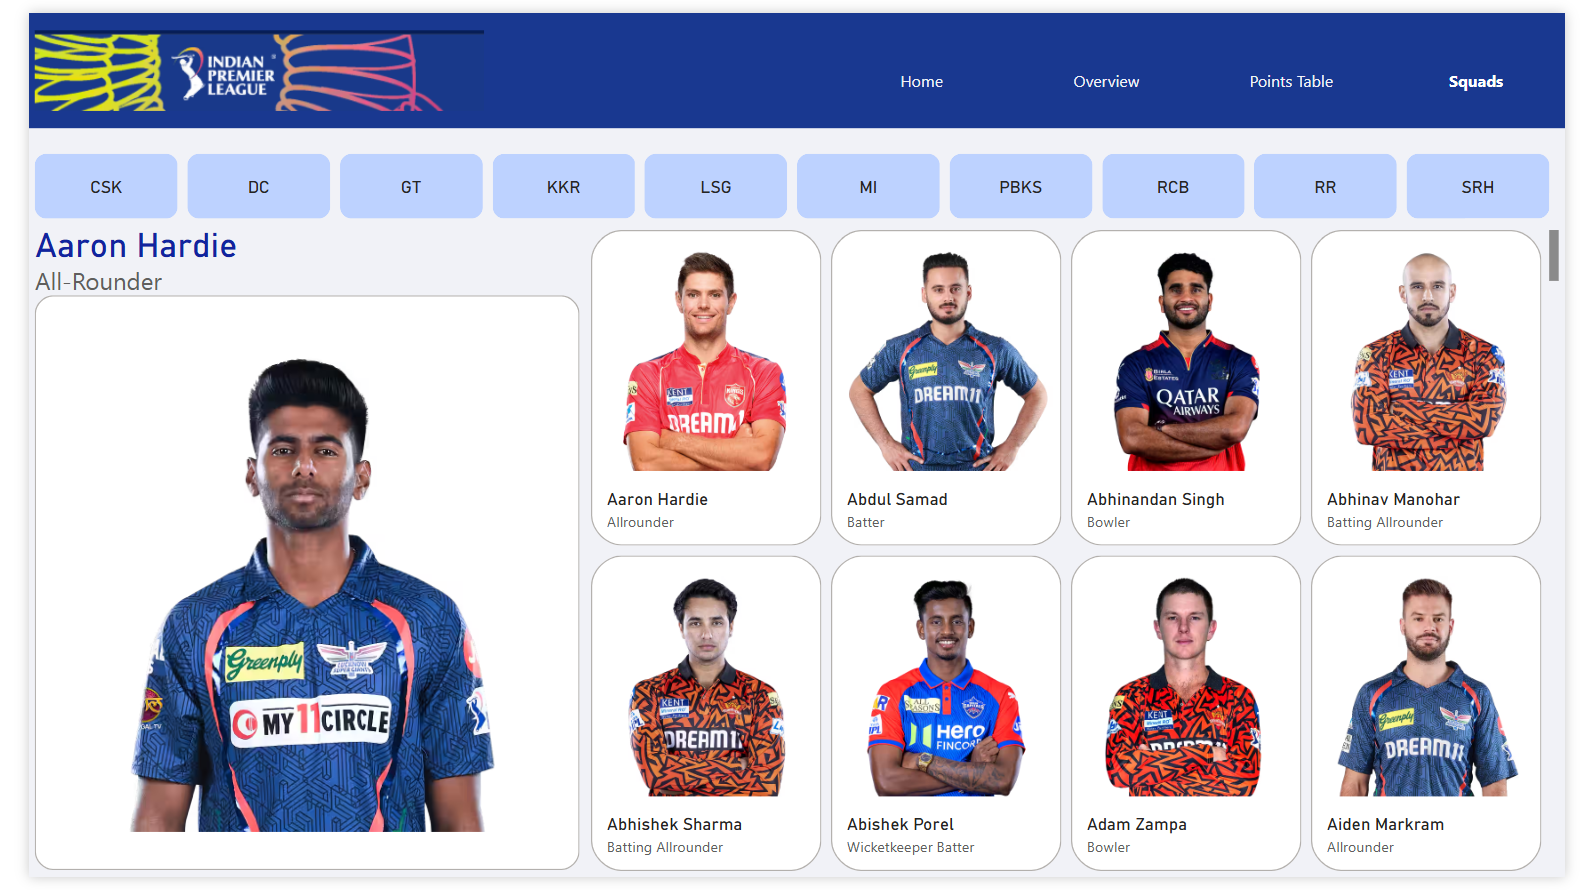

The dashboard page shown, as its layout file describes it:
{"tool":"powerbi","page":{"name":"Squads","canvas":[1280,720],"ordinal":3},"visuals":[{"type":"shape","box":[0,0,1280,96],"z":0},{"type":"pageNavigator","box":[672,32,608,48],"z":1000},{"type":"advancedSlicerVisual","fields":{"Values":["Players.PlayerName"]},"box":[464,176,816,544],"z":2000},{"type":"advancedSlicerVisual","fields":{"Values":["Players.Team_SN"]},"box":[0,112,1280,64],"z":3000},{"type":"cardVisual","fields":{"Data":["Min(Players.PlayerName)"]},"box":[0,176,464,544],"z":4000},{"type":"image","box":[0,0,384,96],"z":5000}]}

Visuals, with their boxes in screenshot pixels (x1, y1, x2, y2), scaled from the page's 1280x720 canvas onto the 1582x890 screenshot:
shape: select_region(0, 0, 1581, 119)
pageNavigator: select_region(831, 40, 1581, 99)
advancedSlicerVisual - Players.PlayerName: select_region(573, 218, 1581, 889)
advancedSlicerVisual - Players.Team_SN: select_region(0, 138, 1581, 218)
cardVisual - Min(Players.PlayerName): select_region(0, 218, 573, 889)
image: select_region(0, 0, 475, 119)
